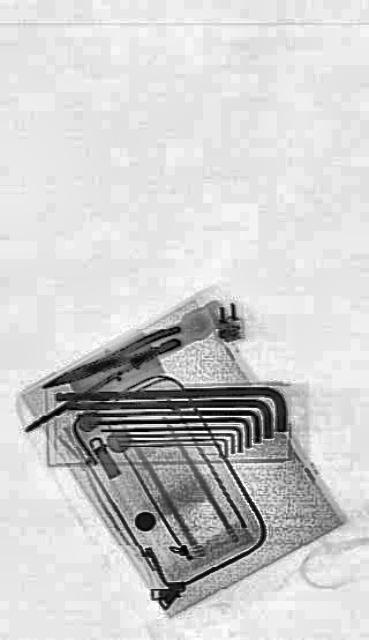Pliers: (38, 319, 182, 399)
